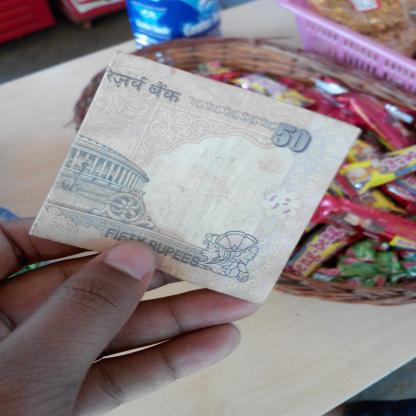Old50Back: (28, 51, 362, 304)
